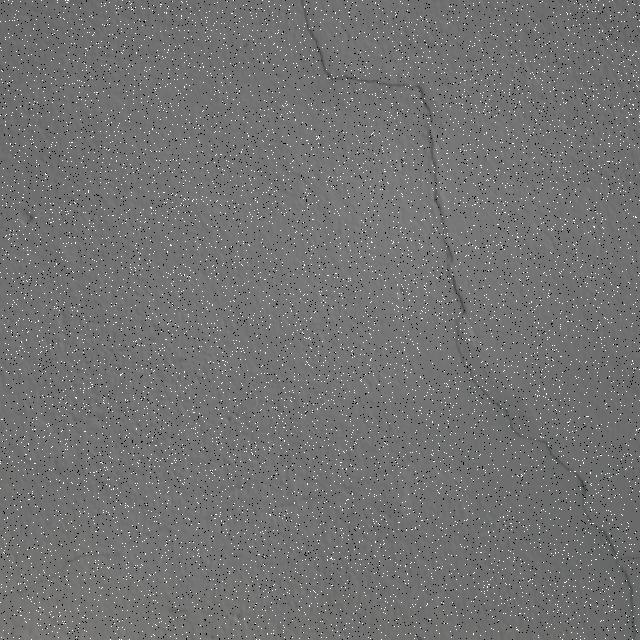minor crack: (352, 76, 417, 92)
moderate crack: (556, 456, 632, 608), (427, 153, 460, 293), (50, 537, 109, 568), (543, 441, 581, 483)
severe crack: (308, 2, 626, 621), (461, 369, 570, 472), (298, 2, 334, 74), (450, 275, 470, 323)
